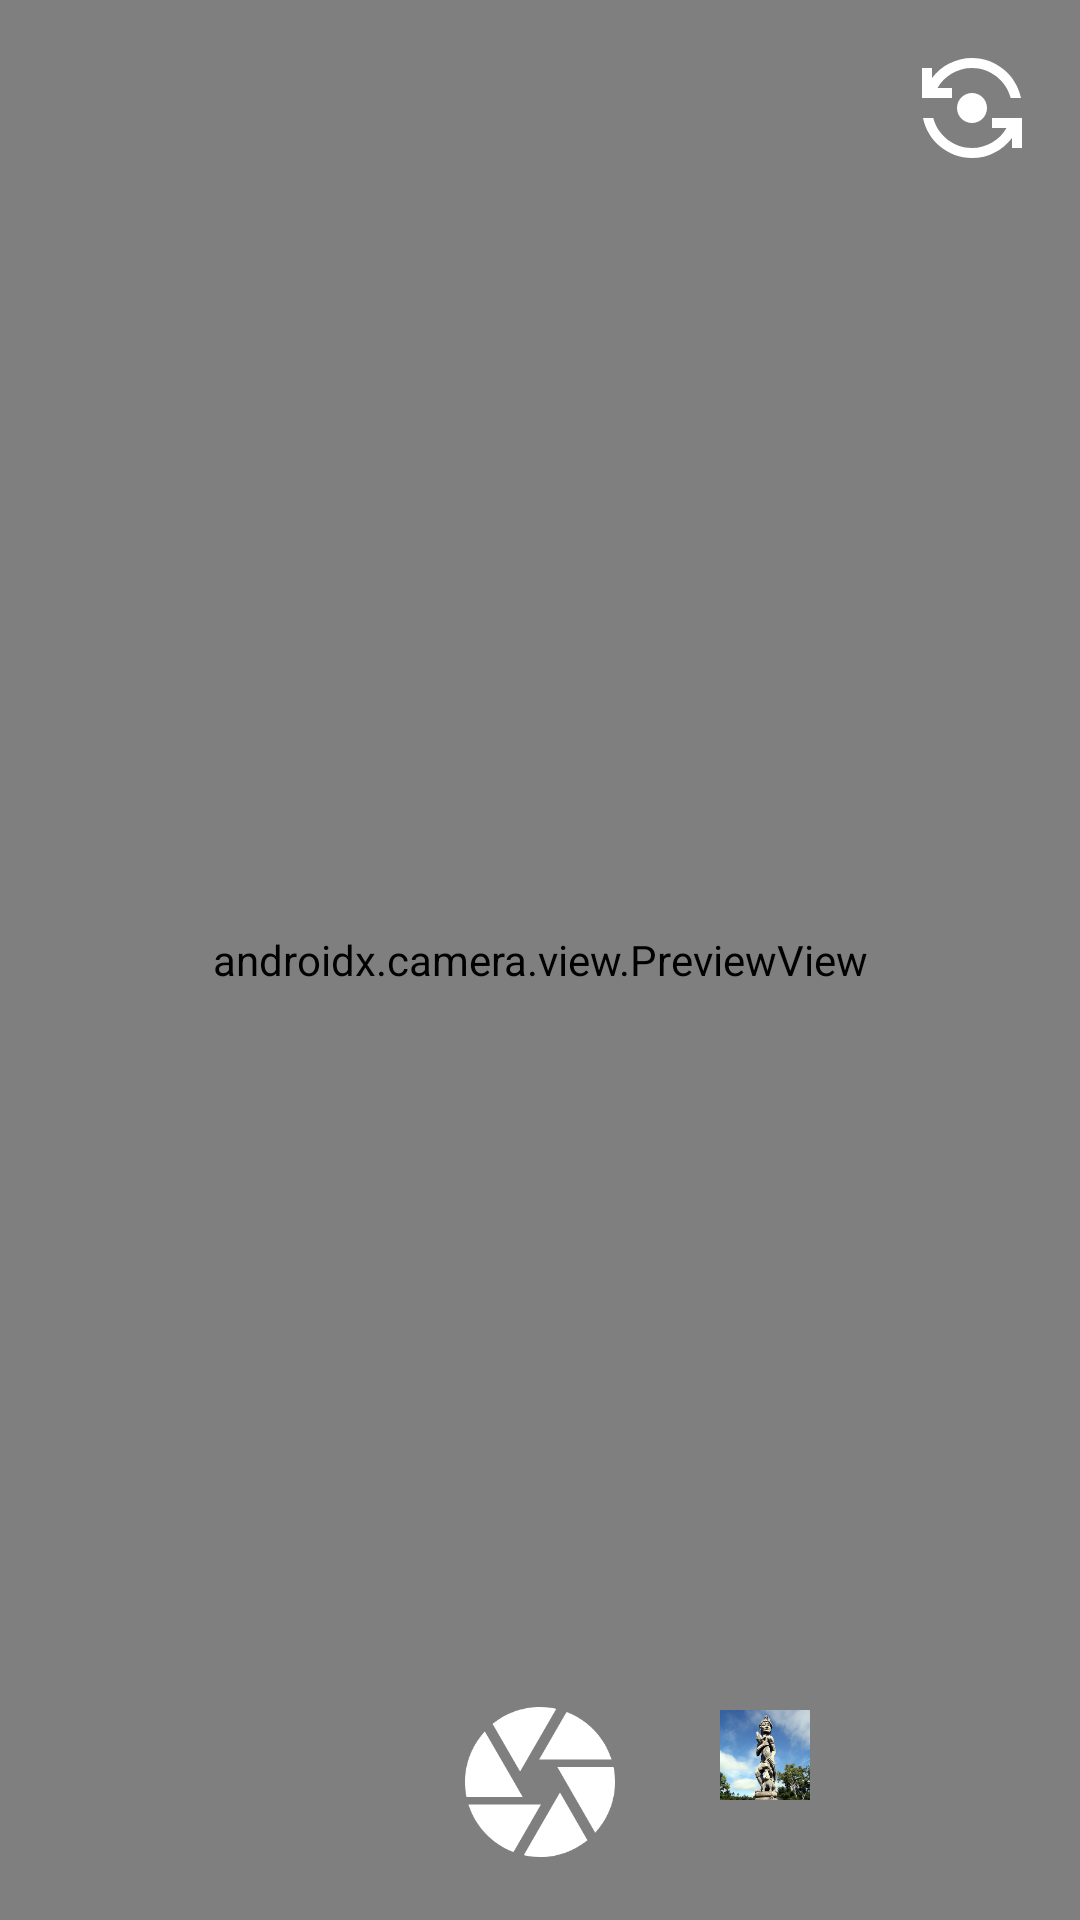

Icon click points for this 1080×1920 phone screenshot, format [x,y]:
flip camera android: [972,108]
